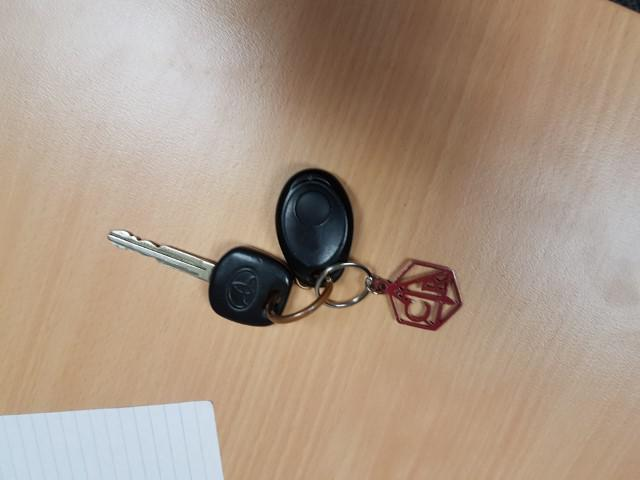key: (108, 229, 293, 328)
